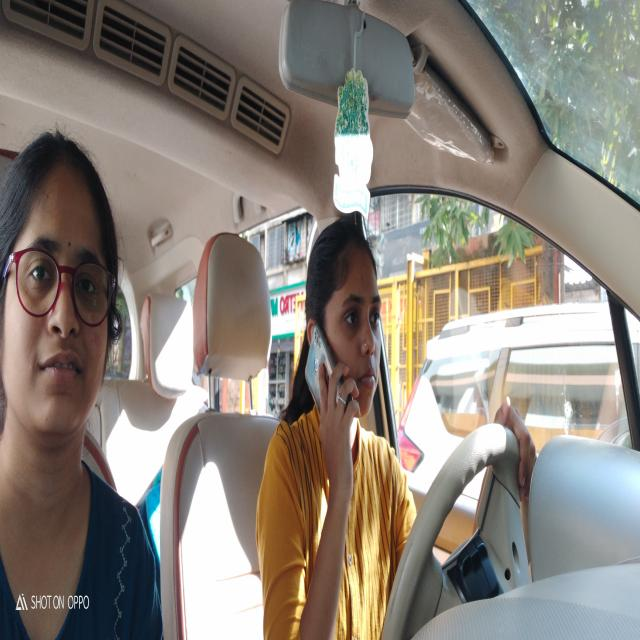mobile: (306, 319, 356, 449)
person: (1, 108, 125, 484), (302, 184, 398, 462)
